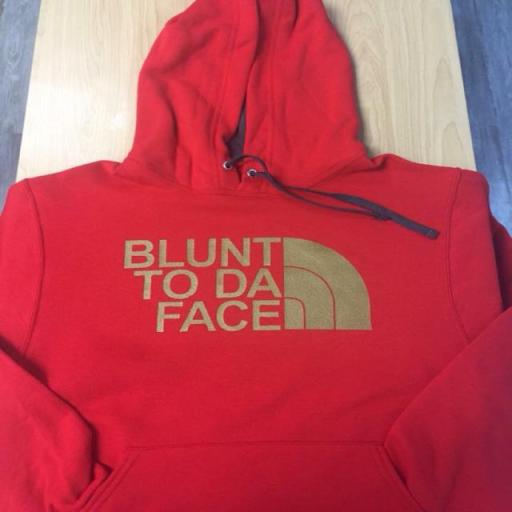The North Face: (281, 235, 376, 336)
